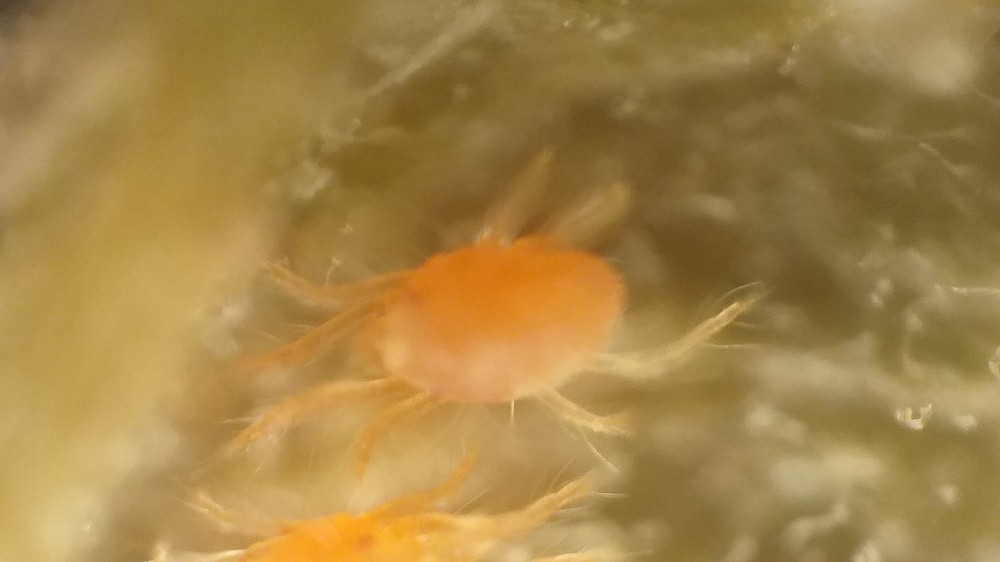Aracnido Rojo: (203, 160, 780, 482)
